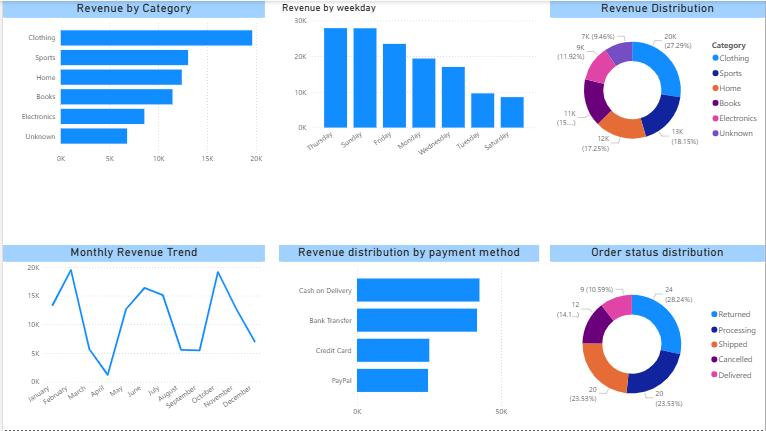

The dashboard page shown, as its layout file describes it:
{"tool":"powerbi","page":{"name":"Revenue Analysis","canvas":[1280,720],"ordinal":1},"visuals":[{"type":"clusteredBarChart","title":"Revenue by Category","fields":{"Y":["Sum(Cleaned_messy_data.Total)"],"Category":["Cleaned_messy_data.Category"]},"box":[0,0,440.1,295.6],"z":0},{"type":"clusteredColumnChart","title":"Revenue by weekday","fields":{"Category":["Cleaned_messy_data.Weekday"],"Y":["Sum(Cleaned_messy_data.Total)"]},"box":[463.6,0,436.7,295.6],"z":1000},{"type":"donutChart","title":"Revenue Distribution","fields":{"Category":["Cleaned_messy_data.Category"],"Y":["Sum(Cleaned_messy_data.Total)"]},"box":[918.3,0,361.7,276.7],"z":2000},{"type":"lineChart","title":"Monthly Revenue Trend","fields":{"Category":["Cleaned_messy_data.Month"],"Y":["Sum(Cleaned_messy_data.Total)"]},"box":[0,409.9,440.1,310.8],"z":3000},{"type":"barChart","title":"Revenue distribution by payment method","fields":{"Category":["Cleaned_messy_data.Payment_Method"],"Y":["Sum(Cleaned_messy_data.Total)"]},"box":[463.6,409.9,436.7,310.8],"z":4000},{"type":"donutChart","title":"Order status distribution","fields":{"Category":["Cleaned_messy_data.Status"],"Y":["CountNonNull(Cleaned_messy_data.Status)"]},"box":[919,410,361,310],"z":5000}]}

Visuals, with their boxes in screenshot pixels (x1, y1, x2, y2), scaled from the page's 1280x720 canvas onto the 766x431 screenshot:
"Revenue by Category" clusteredBarChart: bbox(0, 0, 263, 177)
"Revenue by weekday" clusteredColumnChart: bbox(277, 0, 539, 177)
"Revenue Distribution" donutChart: bbox(550, 0, 765, 166)
"Monthly Revenue Trend" lineChart: bbox(0, 245, 263, 430)
"Revenue distribution by payment method" barChart: bbox(277, 245, 539, 430)
"Order status distribution" donutChart: bbox(550, 245, 765, 430)
